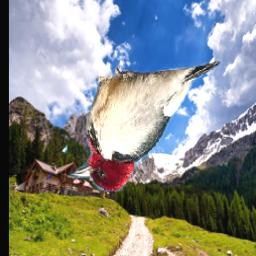Woodpecker: (67, 62, 220, 193)
